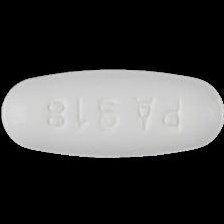50111-918: (0, 0, 224, 224)
